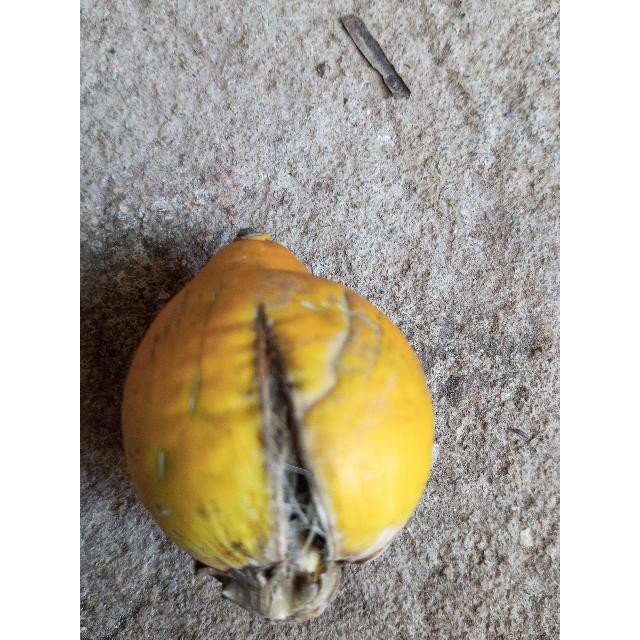damaged: (122, 236, 436, 622)
